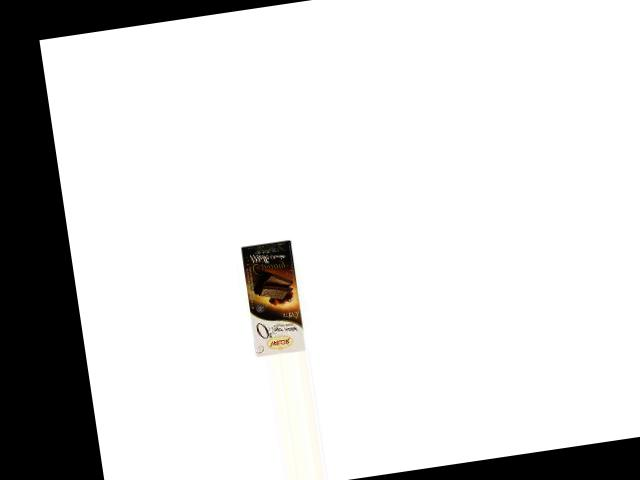chocolate: (237, 238, 308, 357)
